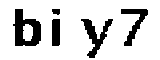7: (118, 4, 149, 54)
b: (11, 6, 44, 51)
i: (50, 5, 70, 52)
y: (79, 15, 114, 60)
